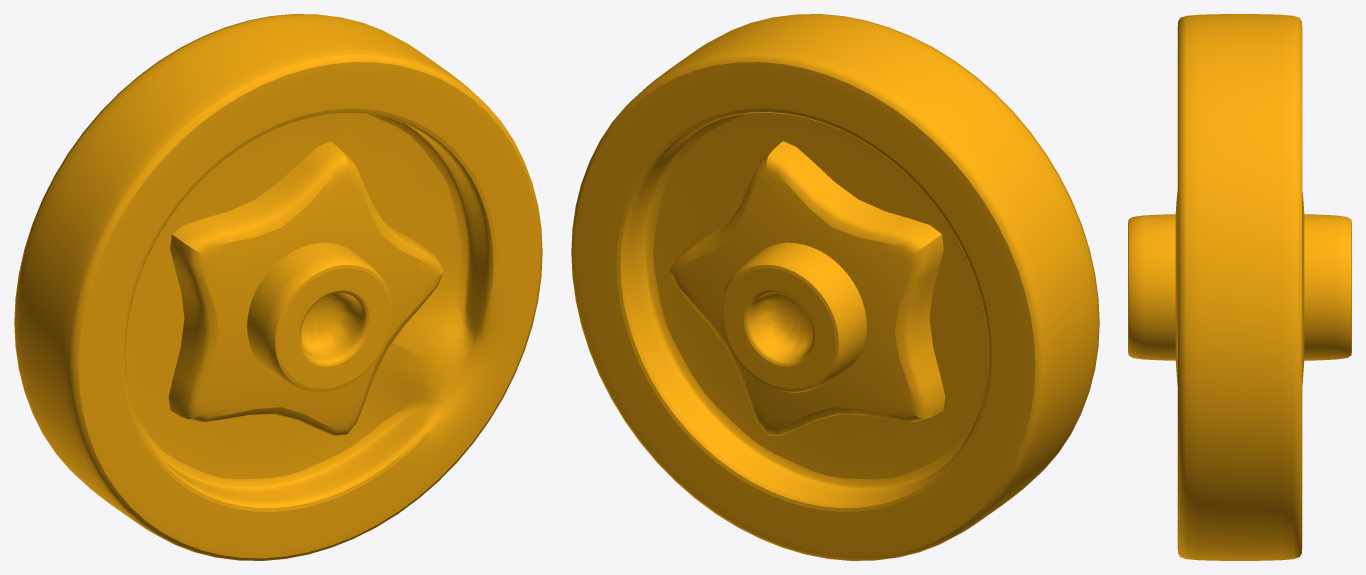
Rendered from Coin_Item.fbx.
3 renders of one model, left to right at view 1: azimuth 30°, elevation 25°; view 2: azimuth 150°, elevation 25°; view 3: azimuth 270°, elevation 25°, orthographic.
Visible parts, largest first — view 1: Cylinder; view 2: Cylinder; view 3: Cylinder.
Part boxes in pixels (x1,y1,x2,y2): Cylinder: (14, 14, 542, 560); Cylinder: (571, 14, 1099, 560); Cylinder: (1128, 14, 1351, 560).
Bounding box in the file's own units: 79.57 × 79.57 × 32.54.
